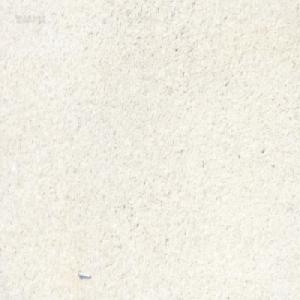Nail: (76, 269, 91, 279)
